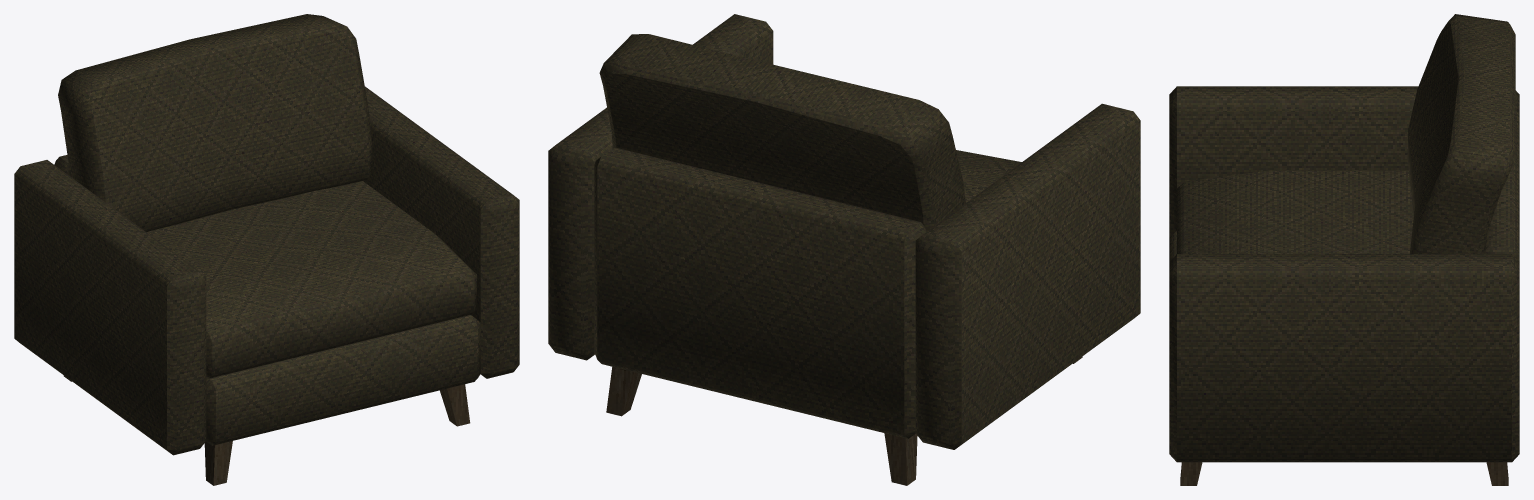
The model's file is armchair_2_1.glb.
3 views of the same model, side by side, from view 1: azimuth 30°, elevation 25°; view 2: azimuth 150°, elevation 25°; view 3: azimuth 270°, elevation 25° (orthographic). The views are drawn at different scales.
Visible parts, largest first — view 1: armchair_2_1; view 2: armchair_2_1; view 3: armchair_2_1.
Part boxes in pixels (<box>): armchair_2_1: <box>14,14,519,485</box>; armchair_2_1: <box>548,14,1140,485</box>; armchair_2_1: <box>1169,14,1519,485</box>.
Size of the model in its own units: 1.26 by 1.07 by 0.99.
2 materials, 2 textured.
